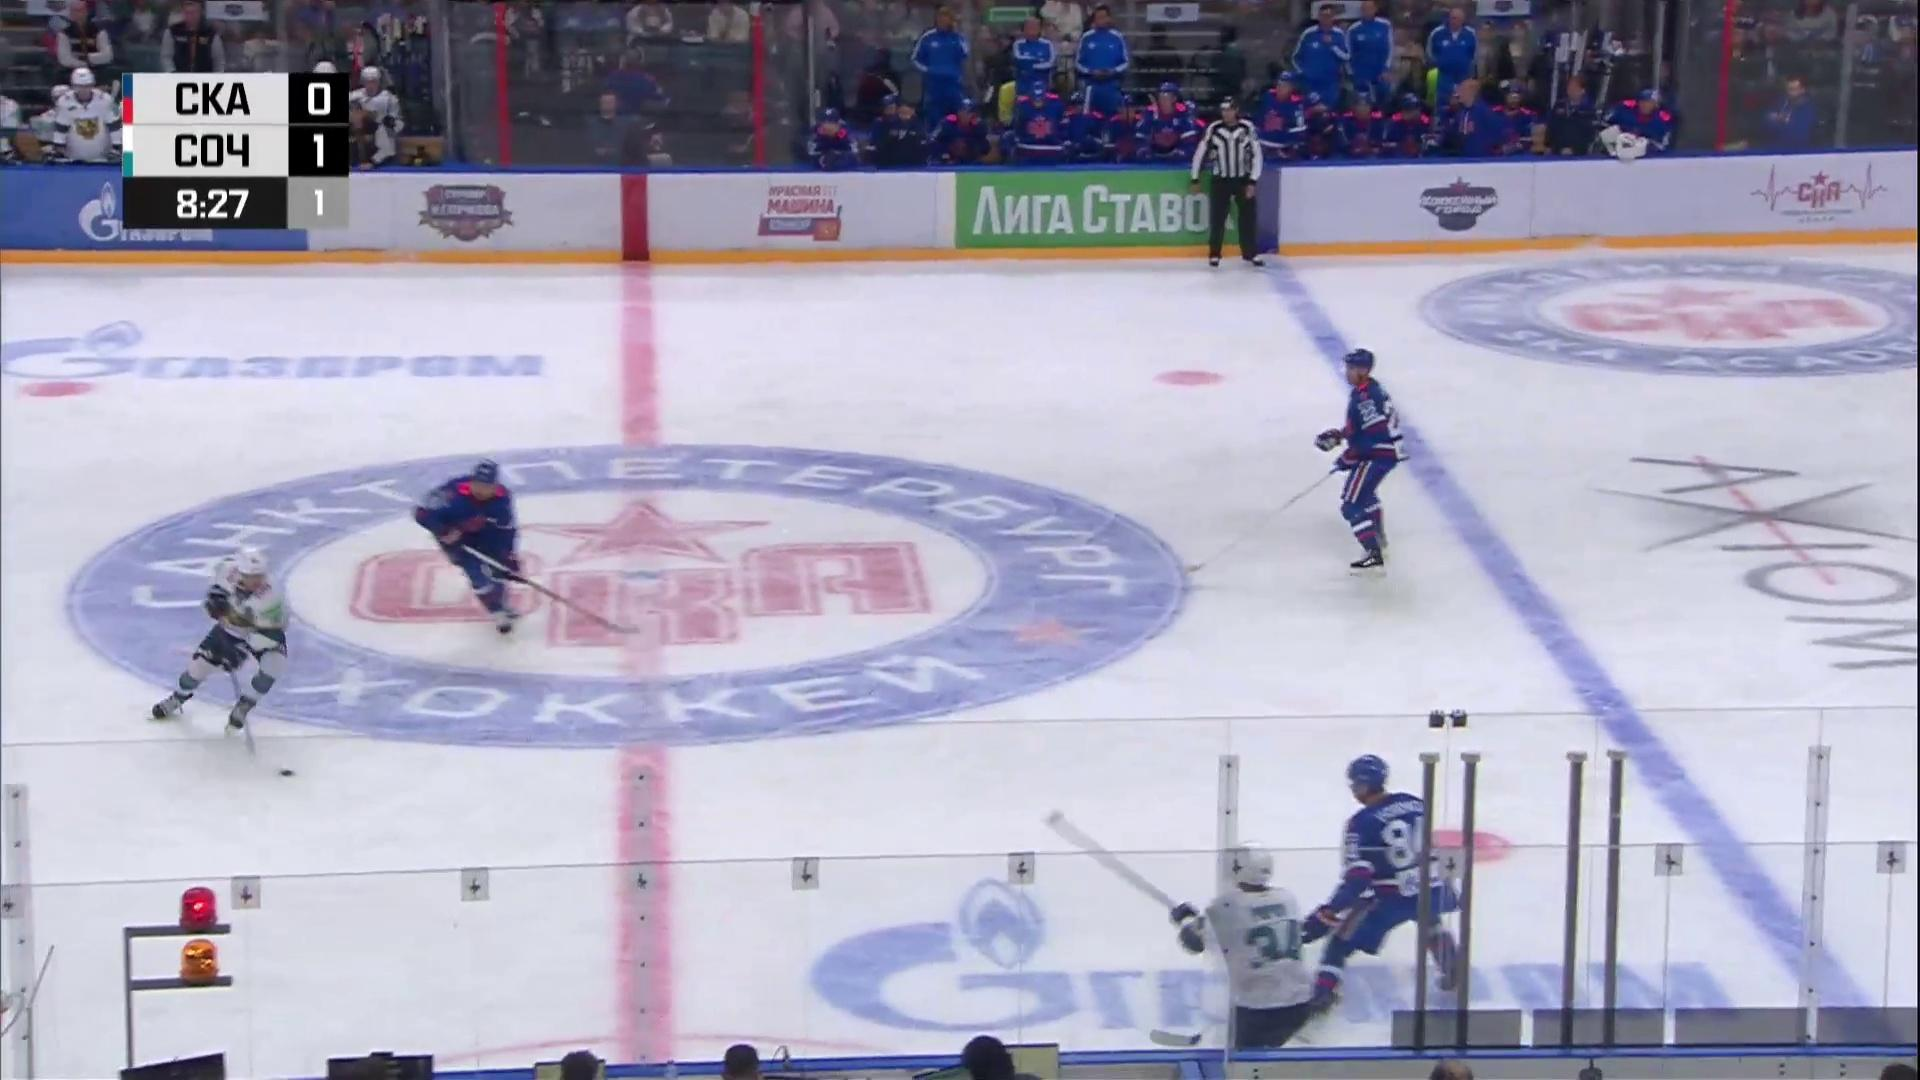ball: (280, 769, 295, 777)
